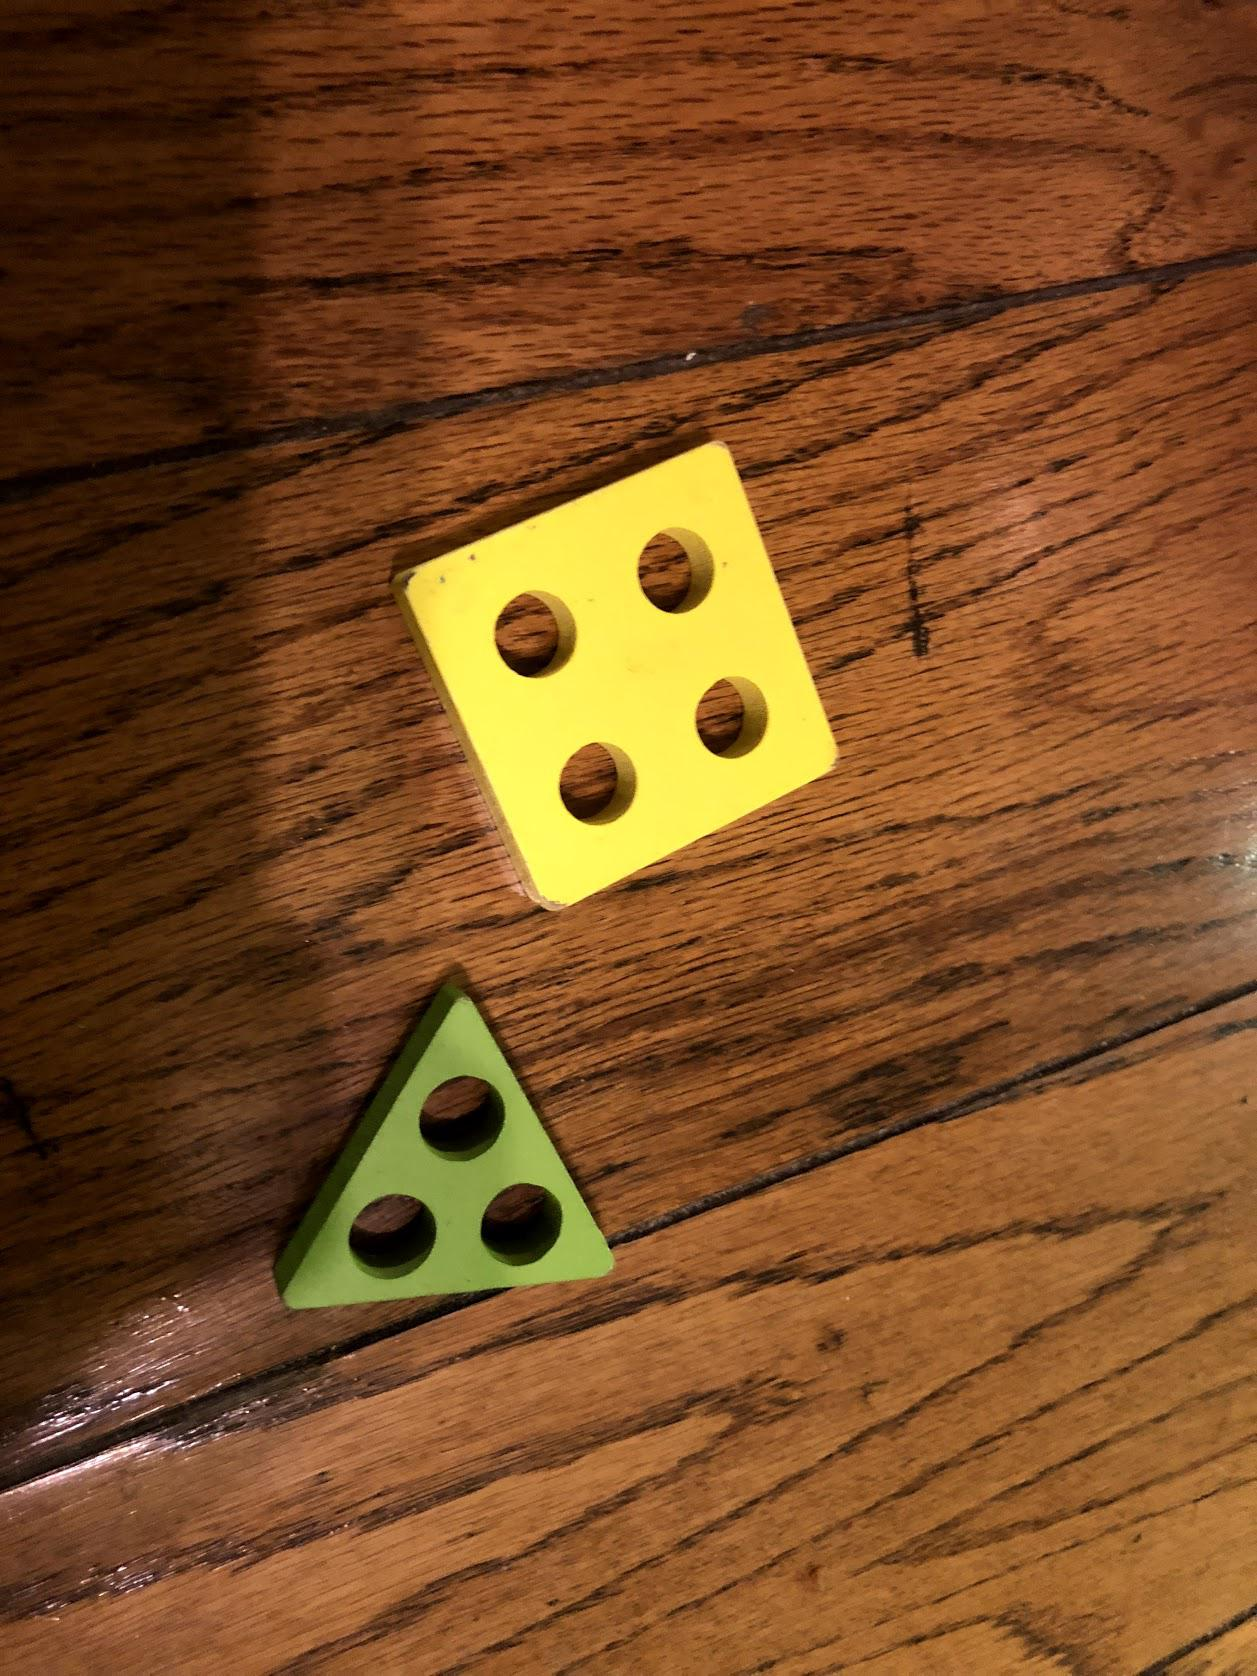Square: (392, 437, 842, 903)
Triangle: (265, 984, 623, 1312)
